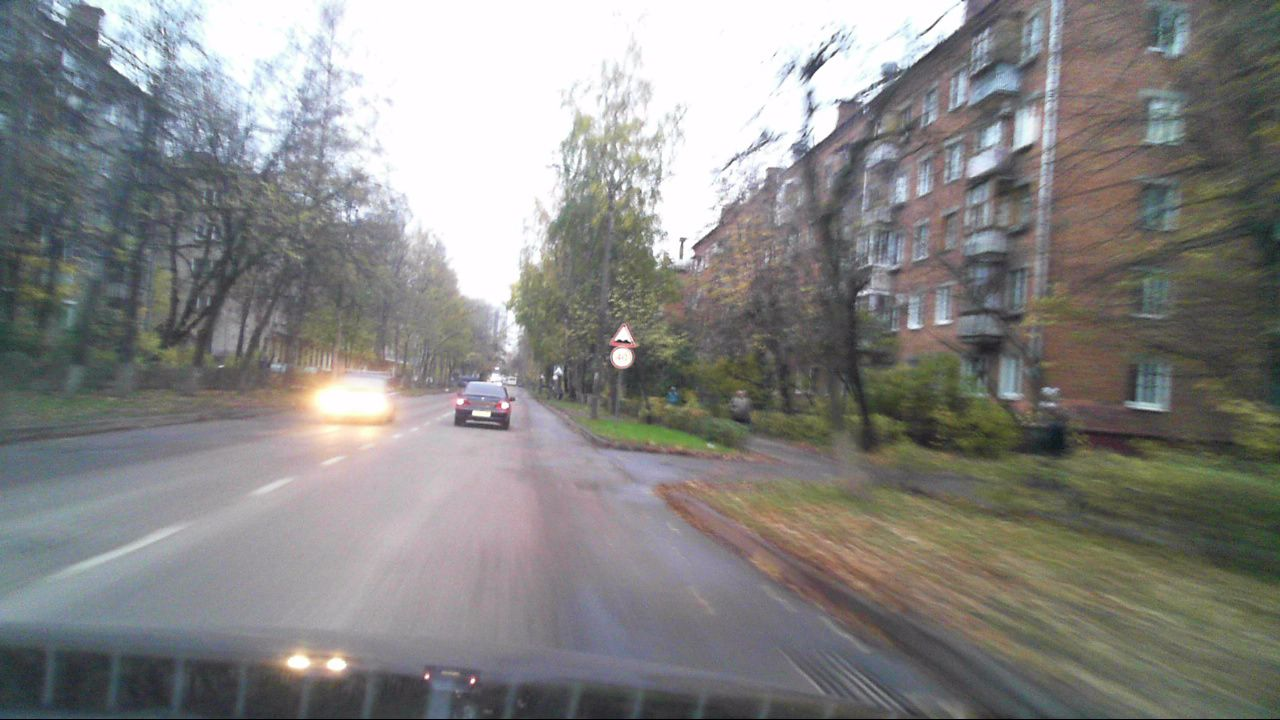speed_warning_40: (611, 346, 633, 368)
